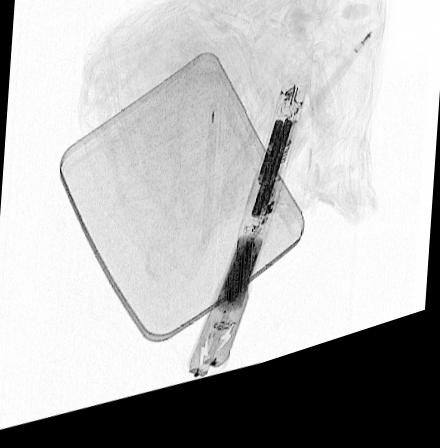Baton: (185, 101, 309, 390)
